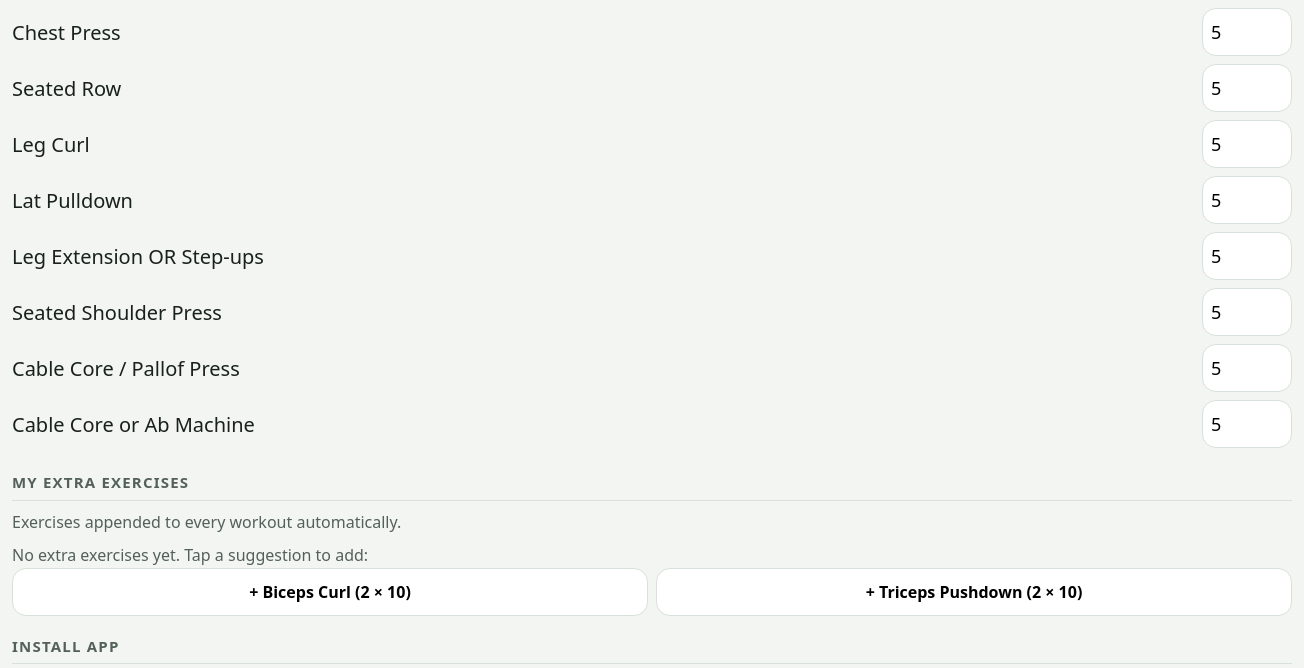
Scenario: SettingsScreen › surfaces a plain-language error message when profile save fails
The image size is (1304, 668).
(page scrolled)
What coordinates should you click on to do the following:
click the button "+ Biceps Curl (2 × 10)"
I would click on:
 (330, 592)
Its box is [12,568,648,616].
(page scrolled)
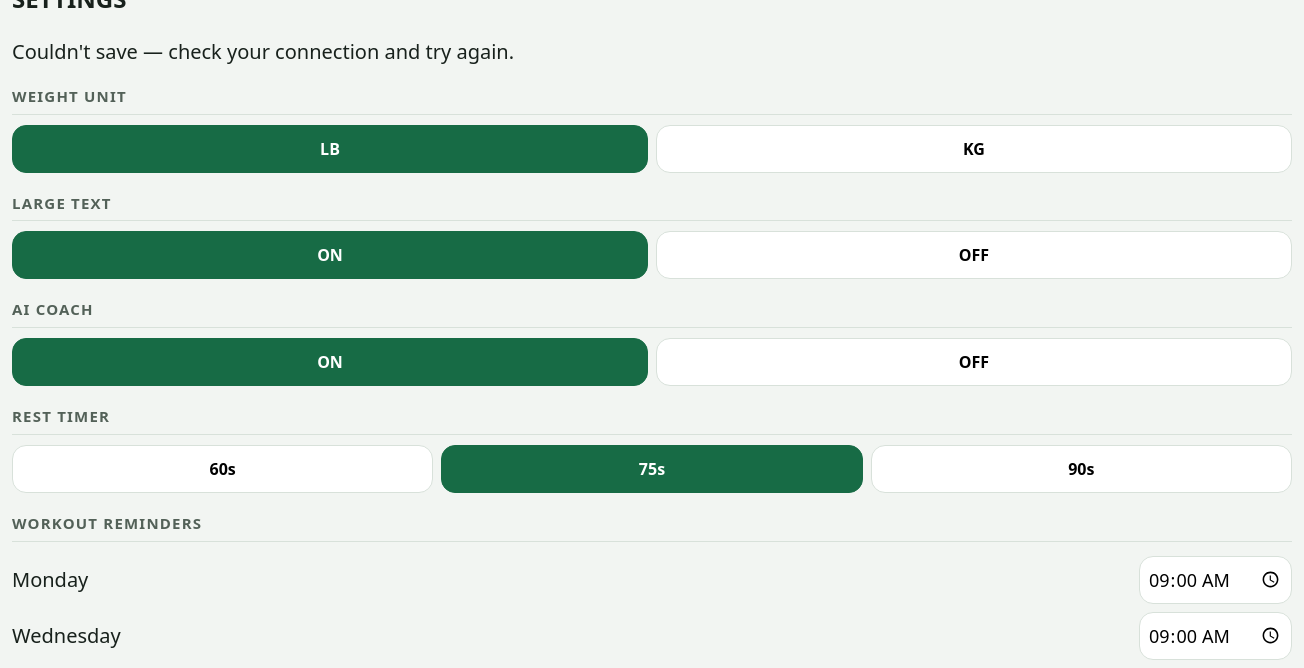
Expected: the message reads "Couldn't save — check your connection and try again.", [12,38,514,65]
